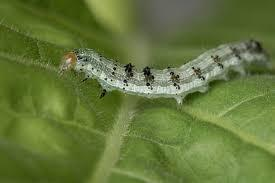fallarmy_worm: (53, 36, 272, 105)
